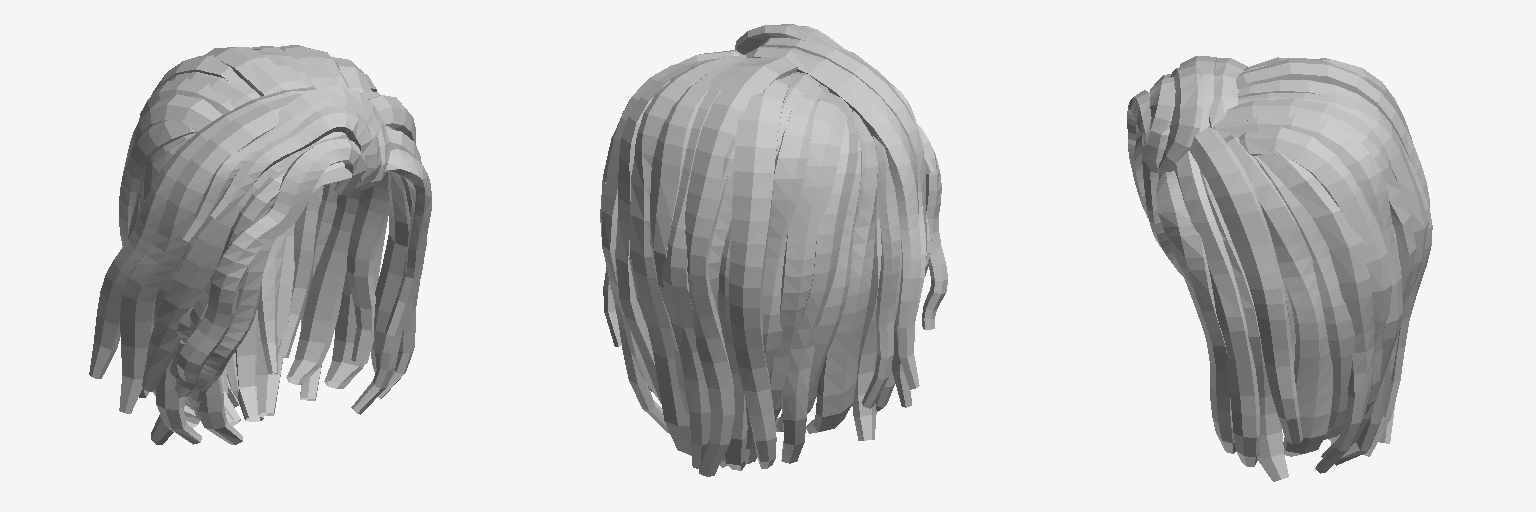
The model's file is hair4.obj.
The picture shows the model from 3 angles: view 1: azimuth 30°, elevation 25°; view 2: azimuth 150°, elevation 25°; view 3: azimuth 270°, elevation 25°; orthographic projection.
Parts seen in each view (by area): view 1: Body.001_Face.baked.001; view 2: Body.001_Face.baked.001; view 3: Body.001_Face.baked.001.
Part boxes in pixels (bbox=[...]): Body.001_Face.baked.001: bbox=[89, 45, 431, 444]; Body.001_Face.baked.001: bbox=[600, 24, 947, 476]; Body.001_Face.baked.001: bbox=[1127, 56, 1432, 481].
Size of the model in its own units: 0.279 by 0.3275 by 0.2336.